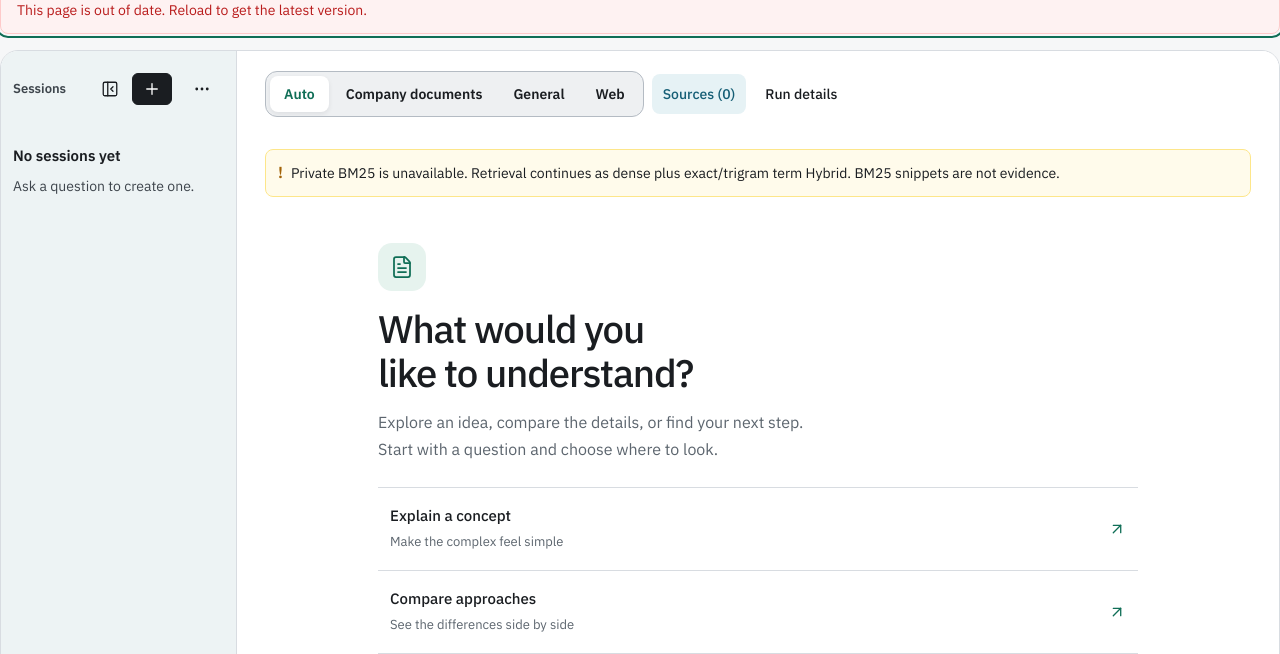
Test: ChatApp Ask workspace › fills the composer from a prompt chip without sending
Click the button "Explain a concept Make the complex feel simple" at {"x": 451, "y": 516}, box [378,488,1138,571]
(page scrolled)
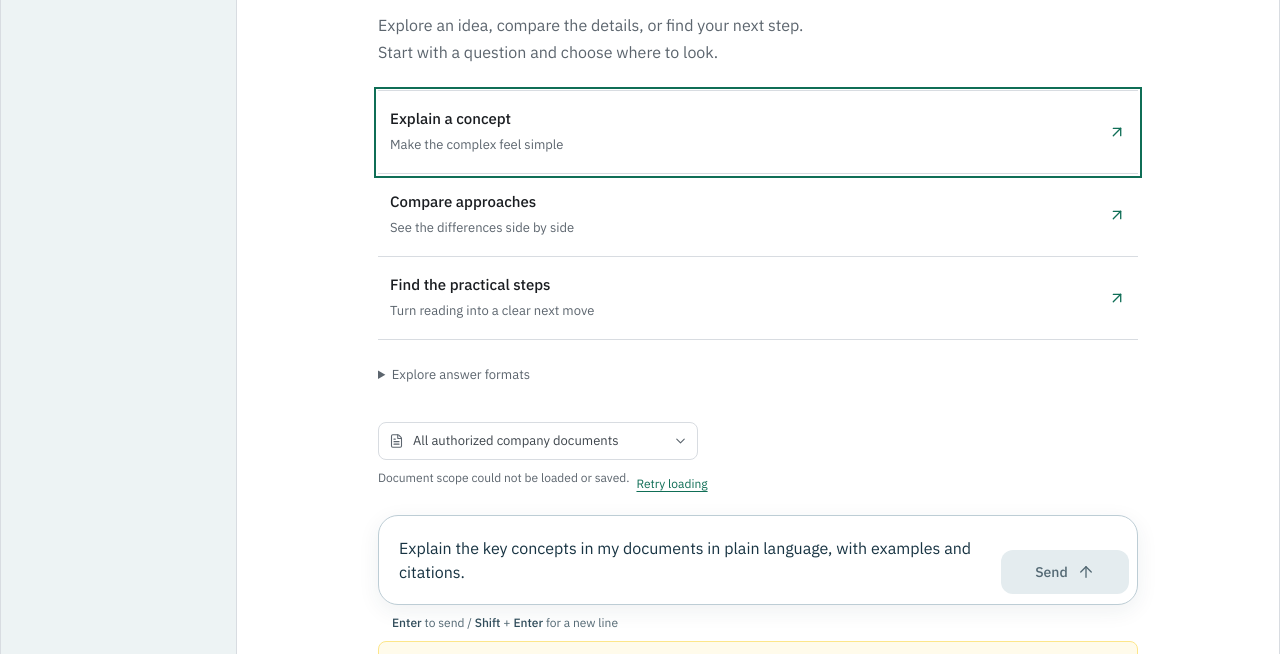
Result: the text box named "Message" holds "Explain the key concepts in my documents in plain language, with examples and citations." at [387,524,989,596]
